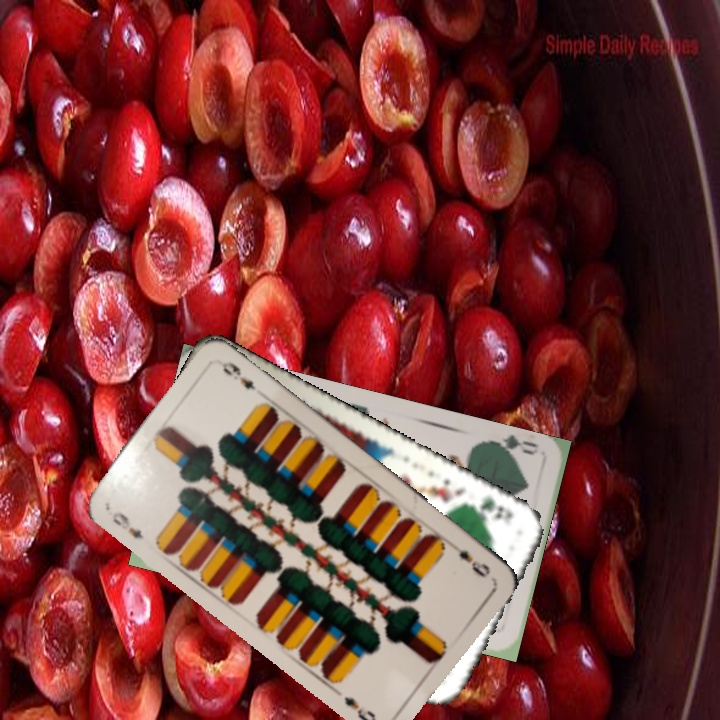E9: (446, 538, 493, 580), (108, 507, 146, 542)
GK: (466, 491, 516, 527)
GO: (483, 432, 542, 462)
